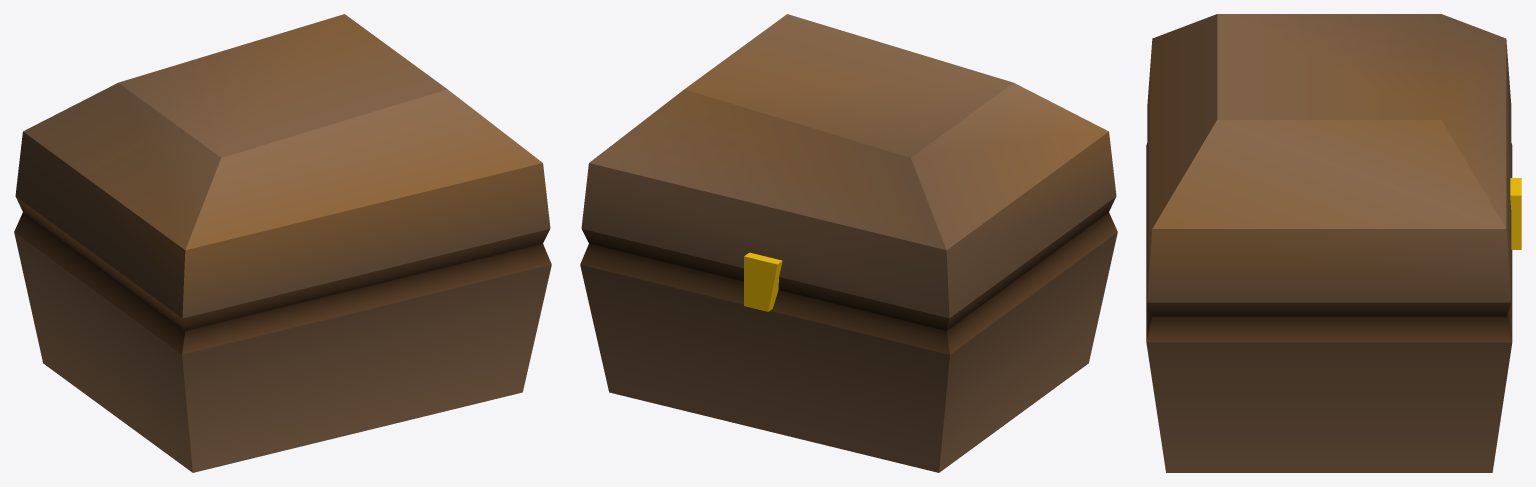
The model's file is StoneChest.glb.
3 views of the same model, side by side, from view 1: azimuth 30°, elevation 25°; view 2: azimuth 150°, elevation 25°; view 3: azimuth 270°, elevation 25° (orthographic). The views are drawn at different scales.
Parts seen in each view (by area): view 1: Cube; view 2: Cube, Cube.001; view 3: Cube, Cube.001.
Boxes of the visible parts, x1,y1,x2,y2 form: Cube: [14, 14, 551, 472]; Cube: [580, 14, 1117, 472]; Cube.001: [744, 252, 782, 311]; Cube: [1146, 14, 1512, 472]; Cube.001: [1510, 178, 1521, 249].
Size of the model in its own units: 0.9943 by 0.7672 by 0.8014.
